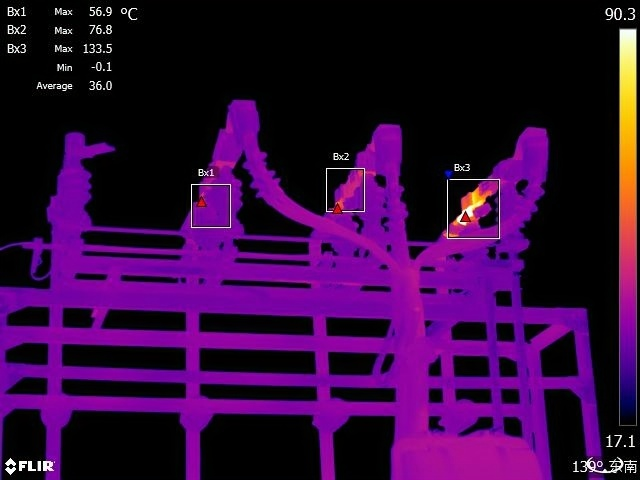post insulator: (190, 114, 255, 198), (456, 153, 529, 218), (330, 133, 390, 209), (51, 163, 96, 220), (205, 169, 247, 226), (352, 175, 388, 229), (492, 185, 525, 237), (326, 203, 358, 255)
